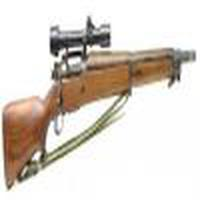gun: (2, 20, 199, 174)
